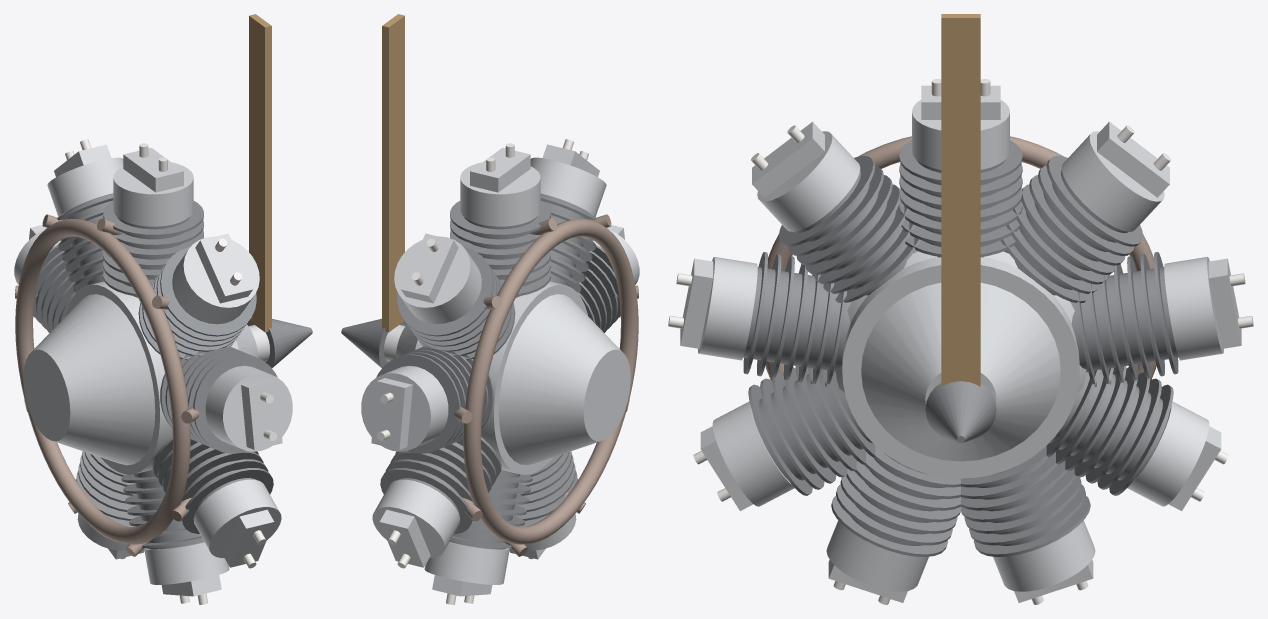
The model's file is combustion_9_radial_90p0_10p0_11p0_sohc_2_no_correa_nafta.glb.
The picture shows the model from 3 angles, left to right: view 1: azimuth 30°, elevation 25°; view 2: azimuth 150°, elevation 25°; view 3: azimuth 270°, elevation 25°; orthographic projection. The views are drawn at different scales.
Visible parts, largest first — view 1: bloque, multiple_escape, helice, culata_3, culata_2, culata_4, culata_1, cilindro_4, cilindro_1, cilindro_2, cilindro_3, culata_5 (+9 smaller); view 2: bloque, multiple_escape, helice, culata_8, culata_9, culata_7, culata_1, cilindro_7, cilindro_1, cilindro_9, cilindro_8, culata_6 (+9 smaller); view 3: tapa_delantera, helice, bloque, cilindro_2, cilindro_9, cilindro_4, cilindro_7, cilindro_5, cilindro_6, cilindro_3, cilindro_8, cilindro_1 (+10 smaller).
Part boxes in pixels (x1,y1,x2,y2): bloque: [23, 281, 238, 474]; multiple_escape: [15, 214, 199, 556]; helice: [247, 14, 312, 367]; culata_3: [205, 365, 292, 451]; culata_2: [172, 233, 259, 324]; culata_4: [193, 479, 281, 567]; culata_1: [113, 147, 193, 226]; cilindro_4: [152, 437, 273, 533]; cilindro_1: [103, 201, 203, 297]; cilindro_2: [138, 246, 256, 360]; cilindro_3: [160, 346, 277, 453]; culata_5: [144, 542, 229, 596]; bloque: [415, 281, 630, 474]; multiple_escape: [454, 214, 638, 556]; helice: [341, 14, 406, 367]; culata_8: [361, 365, 448, 451]; culata_9: [394, 233, 481, 324]; culata_7: [372, 479, 460, 567]; culata_1: [460, 147, 540, 226]; cilindro_7: [380, 437, 501, 533]; cilindro_1: [450, 201, 550, 297]; cilindro_9: [397, 246, 515, 360]; cilindro_8: [376, 346, 493, 453]; culata_6: [424, 542, 509, 596]; tapa_delantera: [835, 251, 1086, 461]; helice: [925, 14, 996, 442]; bloque: [842, 251, 1079, 478]; cilindro_2: [778, 155, 921, 303]; cilindro_9: [1000, 155, 1143, 303]; cilindro_4: [748, 366, 875, 495]; cilindro_7: [1046, 366, 1173, 495]; cilindro_5: [831, 446, 960, 556]; cilindro_6: [961, 446, 1090, 556]; cilindro_3: [743, 252, 851, 386]; cilindro_8: [1070, 252, 1178, 386]; cilindro_1: [899, 140, 1022, 257].
Bounding box in the file's own units: 47 × 90.78 × 73.96.
